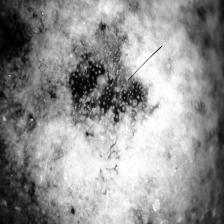Potentially Malignant Skin Tumors: (74, 34, 136, 144)
